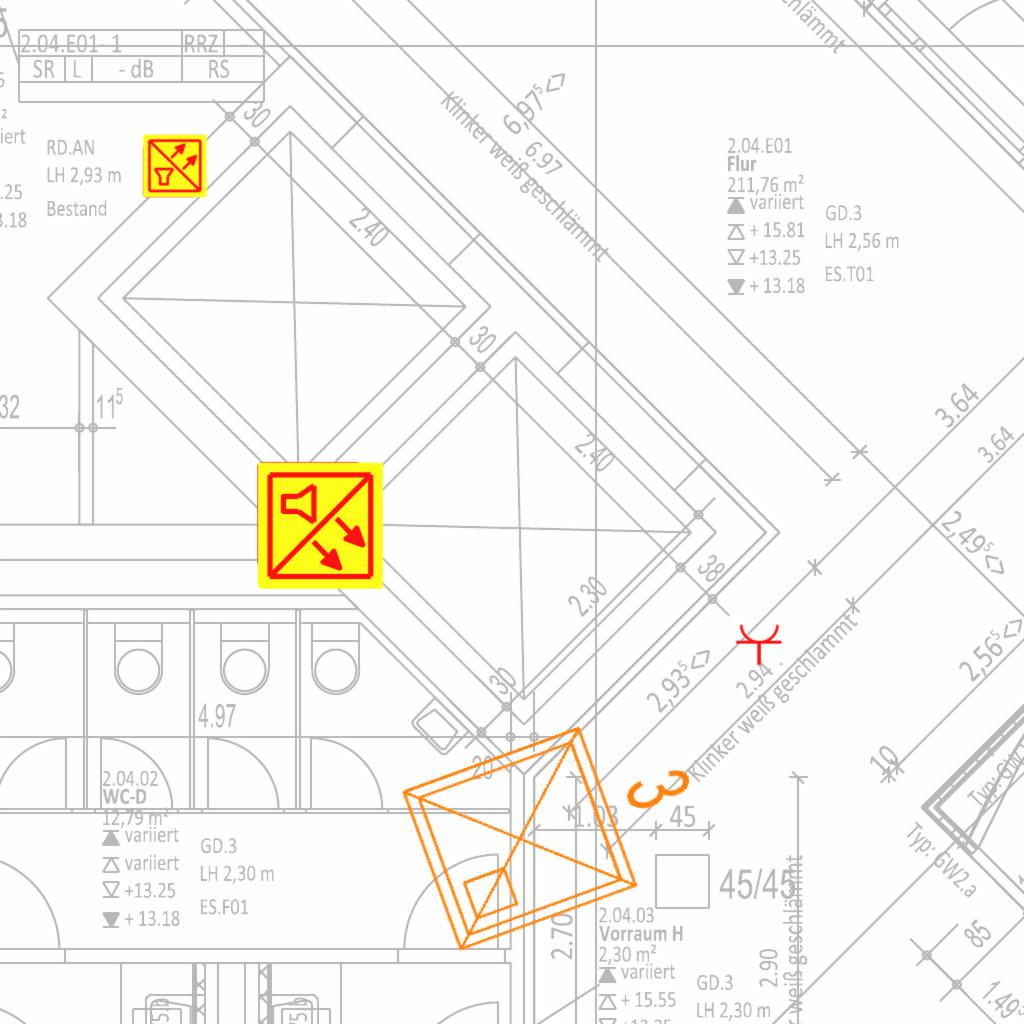Einbaudownlights_LED_Konferenzraeume: (380, 671, 734, 971)
OKW_Multisensormelder_(Kombination_optischer_Rauch-Kahlenmonoxid_Waerme-Melder): (254, 460, 386, 592), (142, 133, 208, 199)
Schukosteckdose_einfach: (735, 623, 785, 666)
